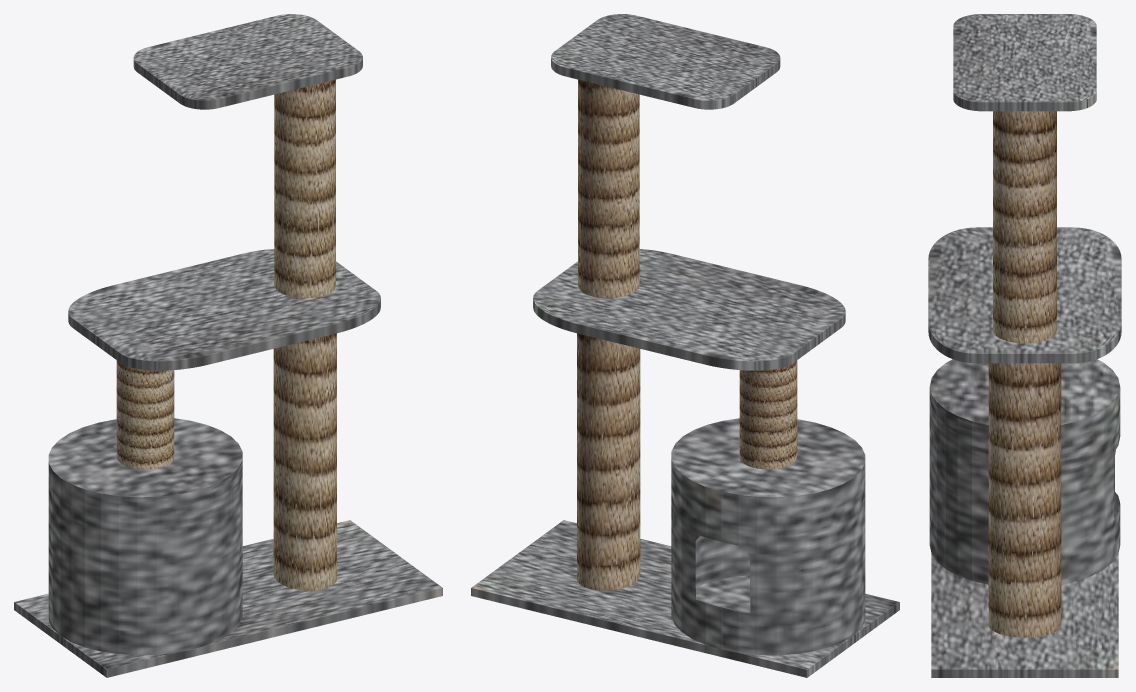
File: house3.gltf
3 renders of one model, left to right at view 1: azimuth 30°, elevation 25°; view 2: azimuth 150°, elevation 25°; view 3: azimuth 270°, elevation 25°, orthographic.
Visible parts, largest first — view 1: Цилиндр, Плоскость.001, Цилиндр.001, Плоскость, Плоскость.002, Цилиндр.003, Цилиндр.002; view 2: Цилиндр, Плоскость.001, Цилиндр.001, Плоскость, Плоскость.002, Цилиндр.003, Цилиндр.002; view 3: Цилиндр, Цилиндр.001, Плоскость.001, Плоскость, Цилиндр.003, Плоскость.002.
Boxes of the visible parts, x1,y1,x2,y2 form: Цилиндр: (48, 418, 242, 655); Плоскость.001: (68, 249, 380, 370); Цилиндр.001: (273, 333, 336, 590); Плоскость: (14, 520, 442, 677); Плоскость.002: (133, 14, 362, 109); Цилиндр.003: (274, 79, 335, 298); Цилиндр.002: (116, 360, 174, 469); Цилиндр: (671, 418, 865, 655); Плоскость.001: (533, 249, 845, 370); Цилиндр.001: (577, 333, 640, 590); Плоскость: (471, 520, 899, 677); Плоскость.002: (551, 14, 780, 109); Цилиндр.003: (578, 79, 639, 298); Цилиндр.002: (739, 360, 797, 469); Цилиндр: (929, 359, 1120, 584); Цилиндр.001: (988, 363, 1061, 637); Плоскость.001: (928, 227, 1121, 363); Плоскость: (931, 553, 1118, 677); Цилиндр.003: (993, 111, 1056, 343); Плоскость.002: (953, 14, 1096, 111).
Bounding box in the file's own units: 4.06 × 6.24 × 2.
Materials: 7 (7 with a texture image).
